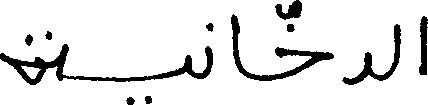X: (276, 0, 332, 83), (0, 29, 43, 89), (344, 47, 370, 89), (420, 11, 427, 79), (232, 9, 238, 74), (206, 18, 210, 81), (183, 50, 189, 79), (395, 19, 398, 73)
